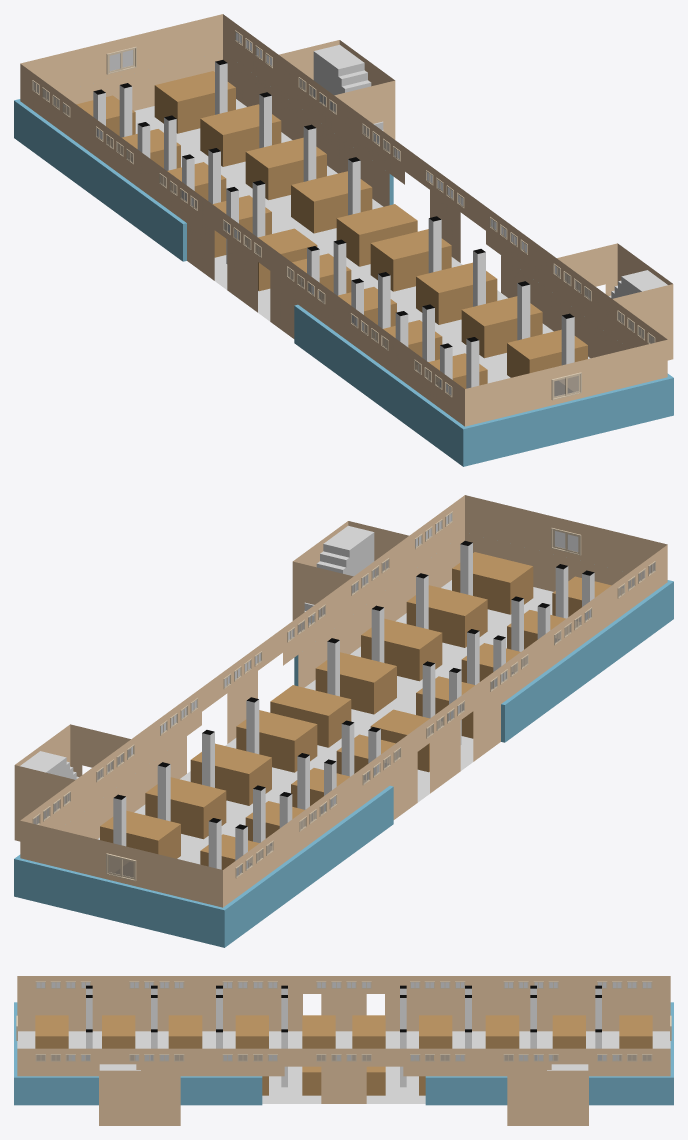
File: can.glb
The picture shows the model from 3 angles, top to bottom: view 1: azimuth 30°, elevation 25°; view 2: azimuth 150°, elevation 25°; view 3: azimuth 270°, elevation 25°; orthographic projection. The views are drawn at different scales.
Visible parts, largest first — view 1: wall, wall2, pillar, ground, Material2.060, Material2.059, steps, goods.003, goods.009, goods.007, goods.012, goods.005 (+13 smaller); view 2: wall, wall2, pillar, ground, Material2.060, Material2.059, steps, goods.014, goods.010, goods.018, goods.001, goods.016 (+13 smaller); view 3: wall, wall2, ground, pillar, Material2.060, Material2.059, goods.004, goods.015, goods.000, goods.002, goods.006, goods.008 (+7 smaller).
Part boxes in pixels (x1,y1,x2,y2): wall: (20,14,673,426); wall2: (14,99,673,466); pillar: (93,60,574,394); ground: (134,99,590,383); Material2.060: (32,30,655,400); Material2.059: (33,32,654,396); steps: (313,44,667,298); goods.003: (291,171,372,233); goods.009: (154,71,235,133); goods.007: (200,104,281,166); goods.012: (370,229,451,291); goods.005: (245,137,326,200); wall: (14,495,667,907); wall2: (14,580,673,947); pillar: (113,541,594,875); ground: (97,580,553,864); Material2.060: (32,511,655,881); Material2.059: (33,513,654,877); steps: (20,525,374,779); goods.014: (315,652,396,714); goods.010: (452,552,533,614); goods.018: (406,585,487,647); goods.001: (236,710,317,772); goods.016: (361,618,442,681); wall: (17,976,670,1125); wall2: (14,1002,673,1105); ground: (17,1031,670,1103); pillar: (86,985,601,1087); Material2.060: (16,981,671,1061); Material2.059: (36,982,651,1060); goods.004: (485,1015,519,1048); goods.015: (168,1015,202,1048); goods.000: (352,1015,385,1048); goods.002: (419,1015,452,1048); goods.006: (552,1015,585,1048); goods.008: (619,1015,652,1048).
Size of the model in its own units: 20.45 by 5.49 by 59.42.
